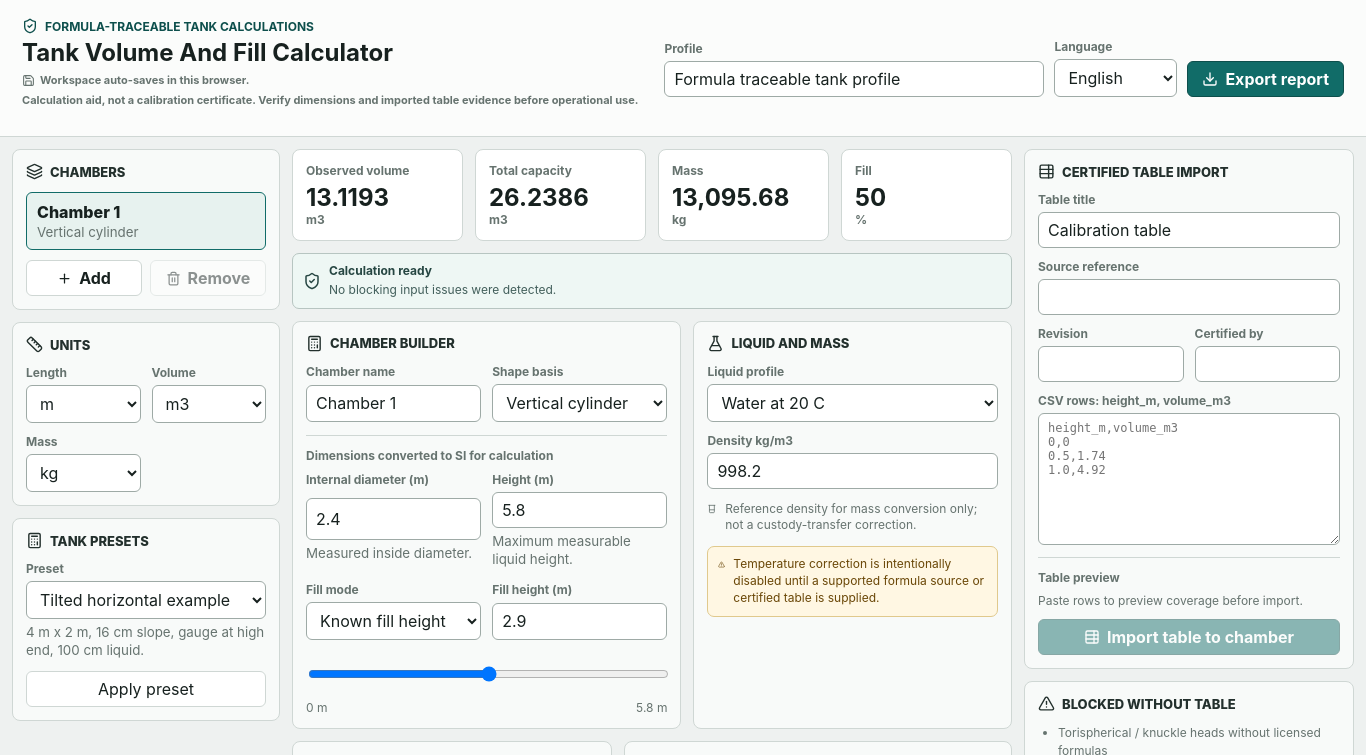
Test: App audit console › switches language labels
The width and height of the screenshot is (1366, 755).
Select "Български" in the dropdown labelled "Language" at (1116, 78), box [1054,59,1177,97]
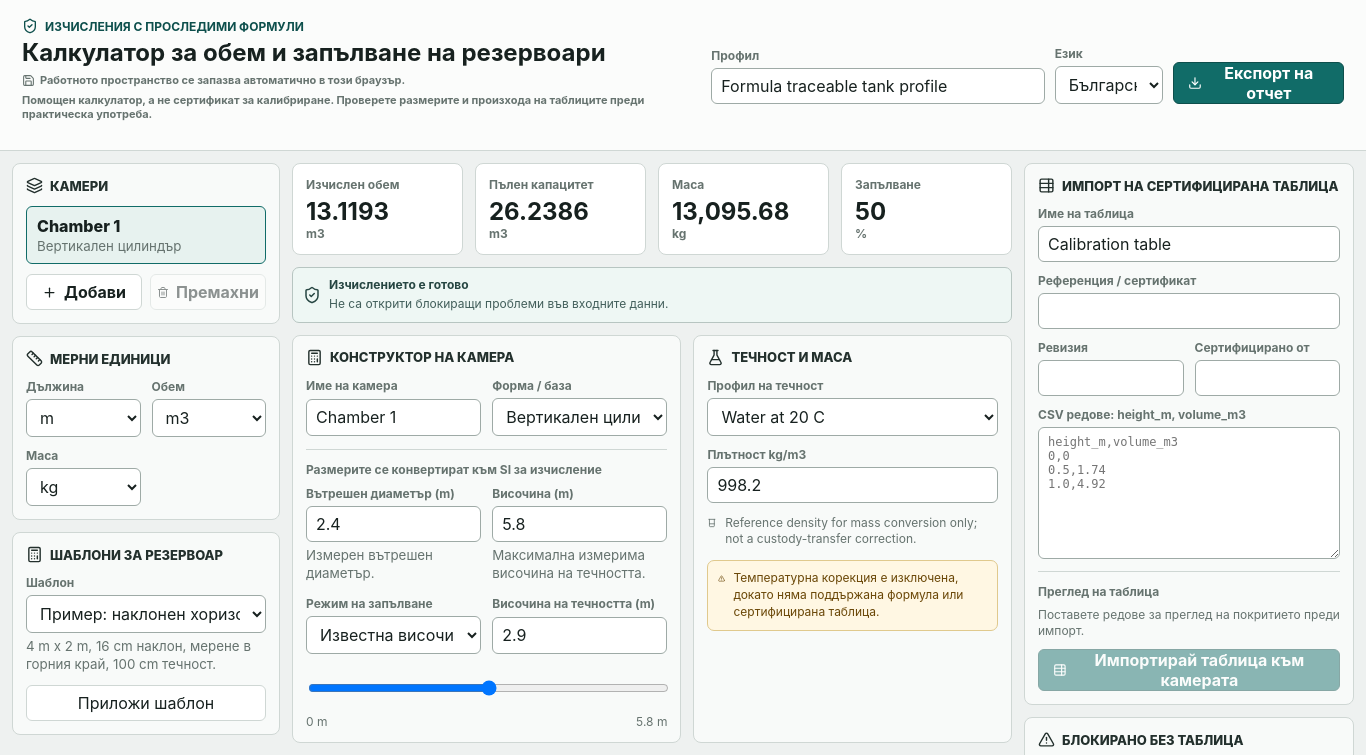
Check: the heading "Калкулатор за обем и запълване на резервоари" is shown, box [22,38,691,67]
Check: the button "Експорт на отчет" is shown, box [1173,62,1344,104]
